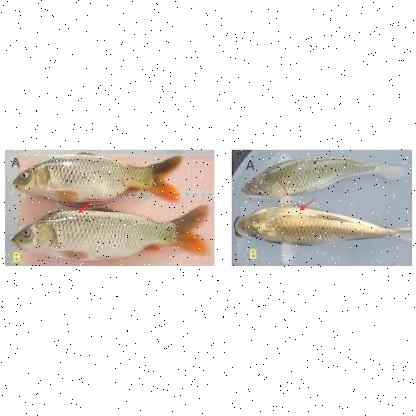ikan-mas: (10, 204, 206, 258), (10, 154, 186, 206), (236, 200, 406, 250), (241, 151, 397, 199)
